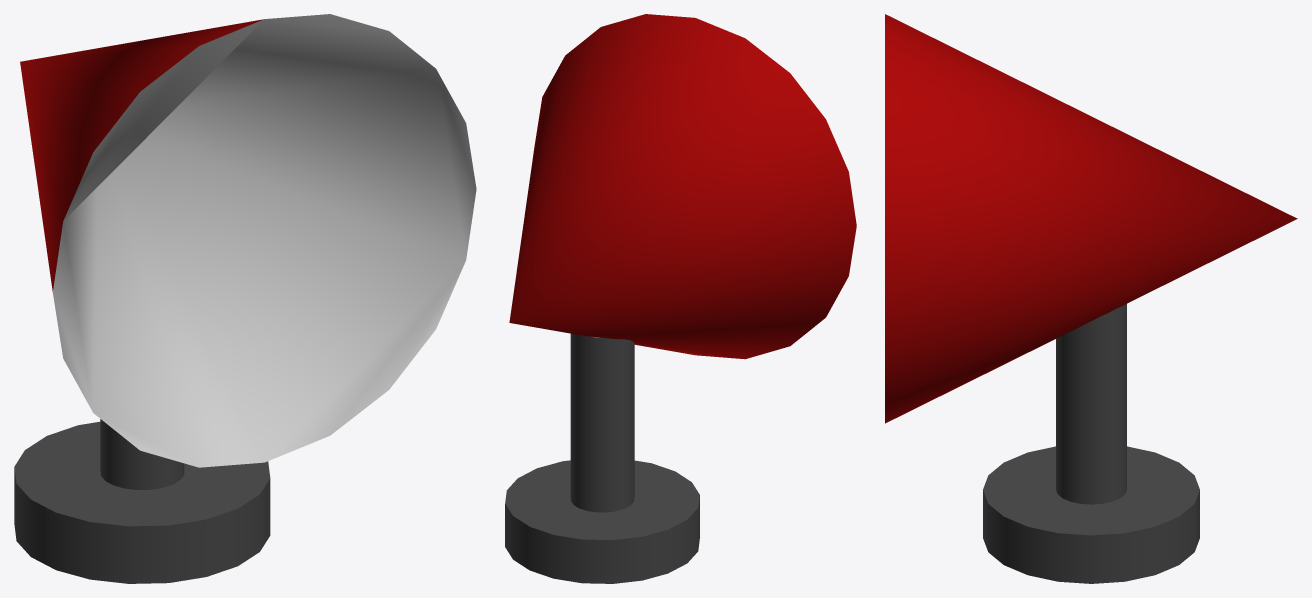
File: ReadingLamp.fbx
3 renders of one model, left to right at view 1: azimuth 30°, elevation 25°; view 2: azimuth 150°, elevation 25°; view 3: azimuth 270°, elevation 25°, orthographic. The views are drawn at different scales.
Parts seen in each view (by area): view 1: LampCone; view 2: LampCone; view 3: LampCone.
Part boxes in pixels (x1=…): LampCone: x1=14, y1=14, x2=476, y2=583; LampCone: x1=505, y1=14, x2=856, y2=583; LampCone: x1=885, y1=14, x2=1297, y2=583.
Size of the model in its own units: 3.8 by 5.15 by 3.8.
